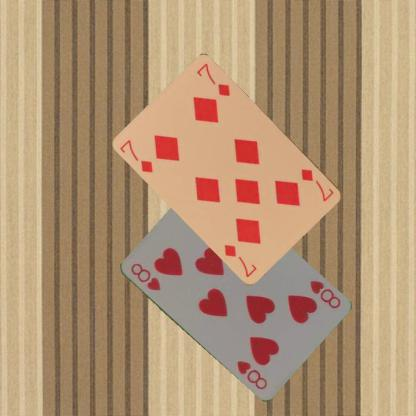7d: (117, 136, 155, 174), (299, 166, 335, 203)
8h: (307, 278, 342, 310), (128, 260, 162, 292)
